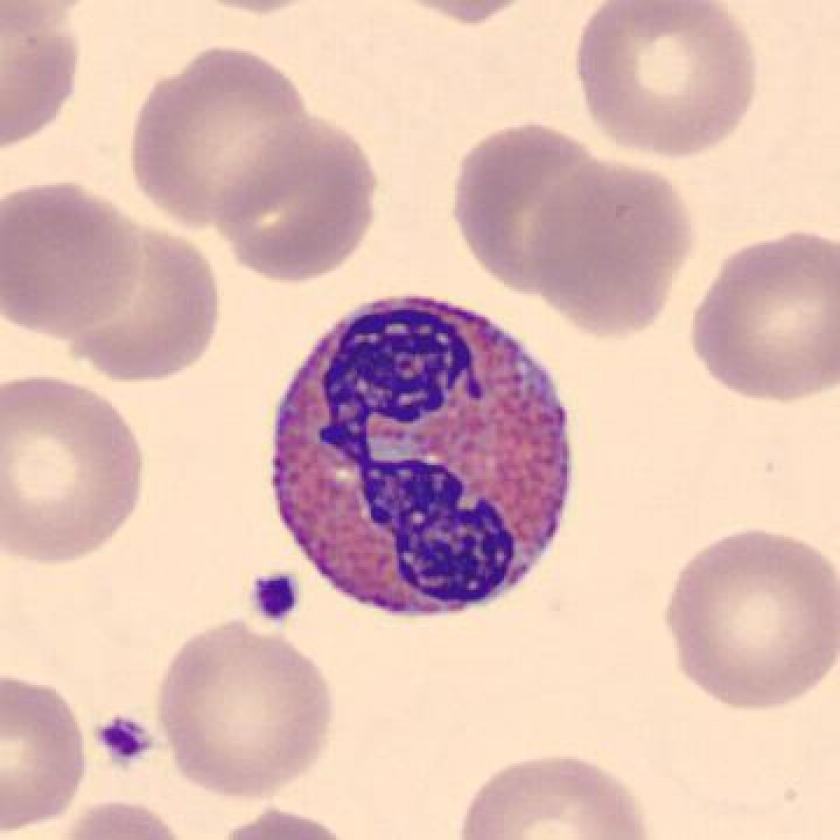eosinophil: (251, 281, 591, 630)
